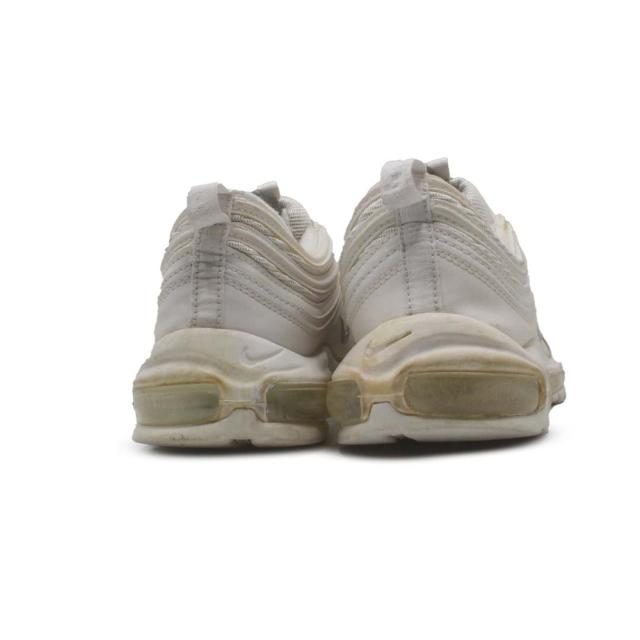heel: (334, 159, 529, 355), (149, 189, 323, 353)
midsole: (332, 312, 550, 446), (126, 331, 331, 446)
